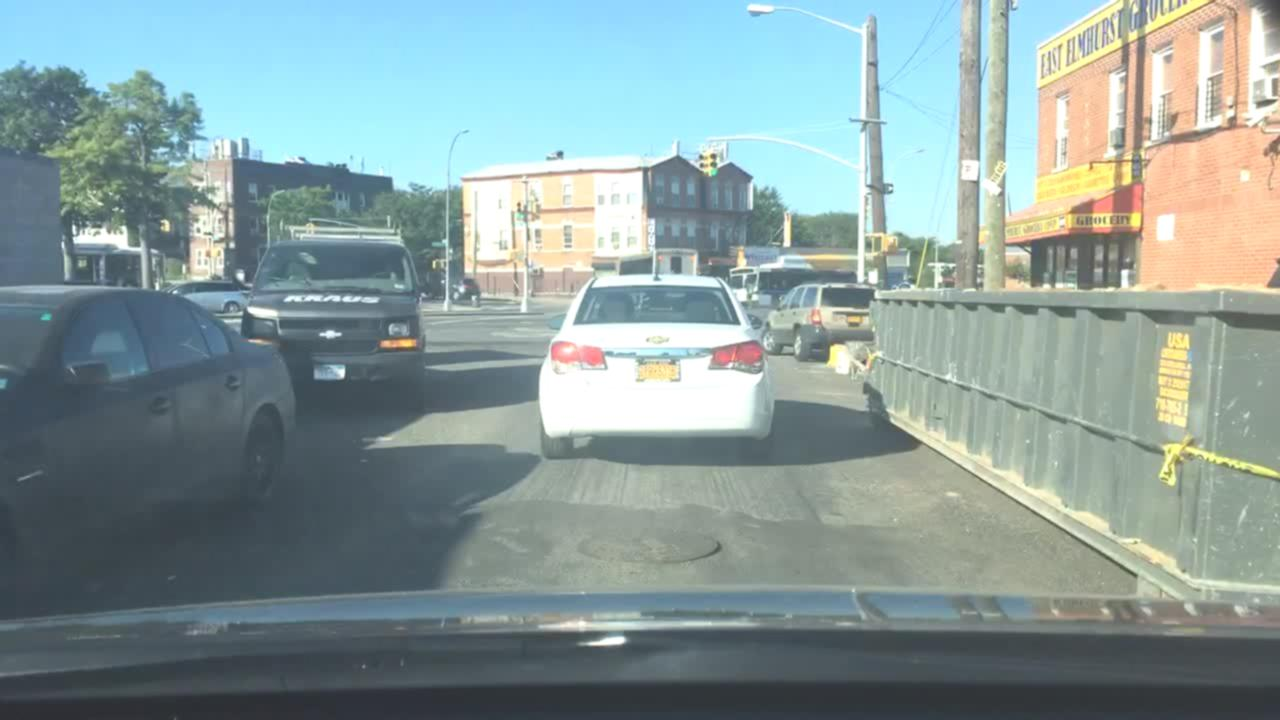chevrolet: (312, 324, 351, 345), (640, 333, 680, 349)
